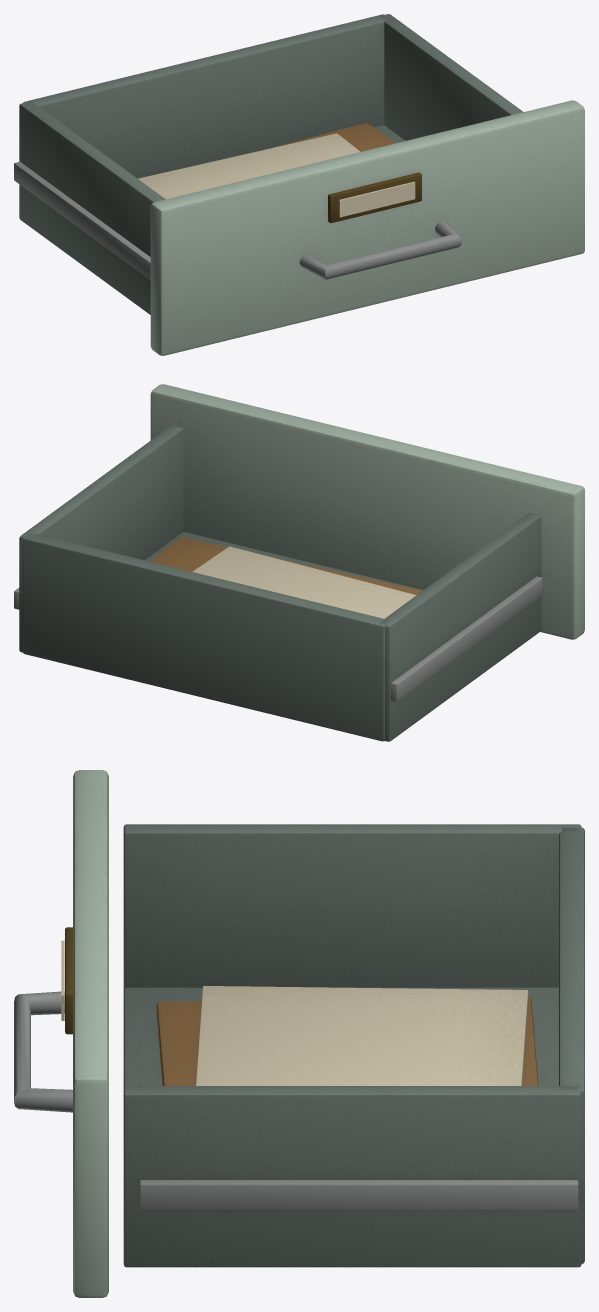
The model's file is CTCC_STAFF_NurseDrawer.fbx.
3 renders of one model, top to bottom at view 1: azimuth 30°, elevation 25°; view 2: azimuth 150°, elevation 25°; view 3: azimuth 270°, elevation 25°, orthographic. The views are drawn at different scales.
Parts seen in each view (by area): view 1: CTCC_STAFF_NurseDrawer; view 2: CTCC_STAFF_NurseDrawer; view 3: CTCC_STAFF_NurseDrawer.
Part boxes in pixels (box(x1,y1,x2,y2)): CTCC_STAFF_NurseDrawer: box(14, 14, 584, 355); CTCC_STAFF_NurseDrawer: box(14, 384, 584, 741); CTCC_STAFF_NurseDrawer: box(14, 770, 584, 1297).
Size of the model in its own units: 0.452 by 0.15 by 0.3502.
